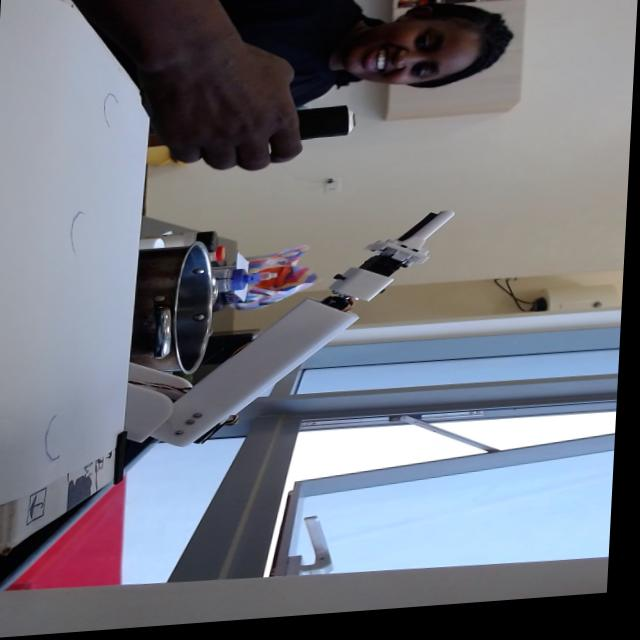cooking_pot: (134, 243, 221, 381)
